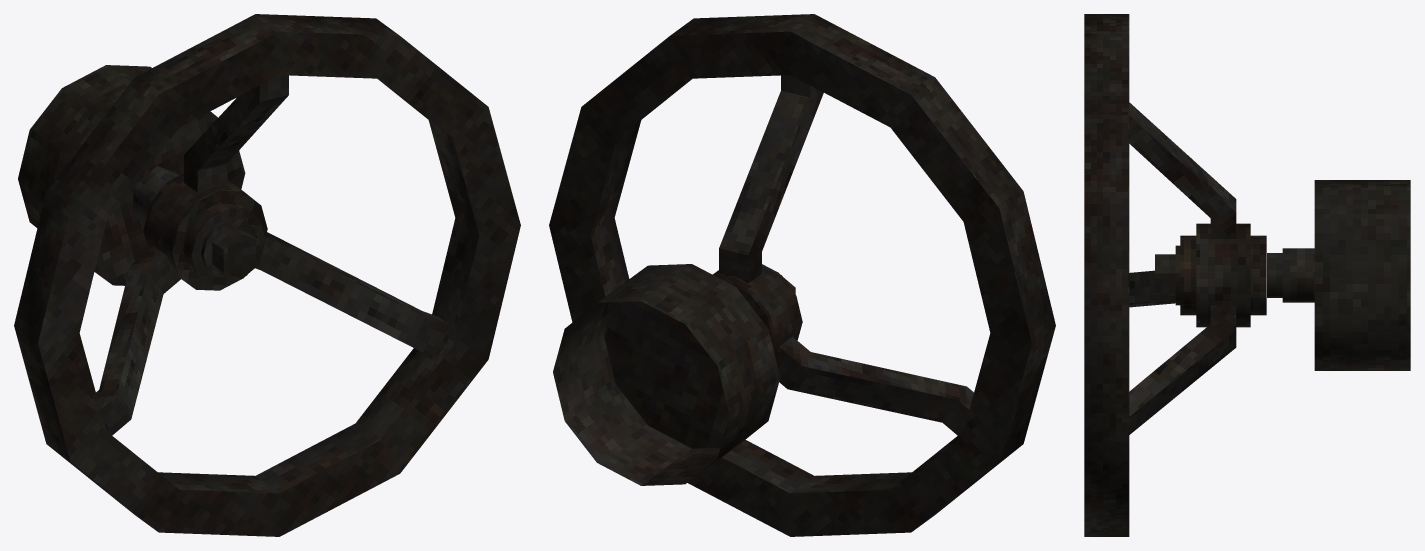
File: pipe_valve_holder_large_2_1.glb
3 renders of one model, left to right at view 1: azimuth 30°, elevation 25°; view 2: azimuth 150°, elevation 25°; view 3: azimuth 270°, elevation 25°, orthographic. The views are drawn at different scales.
Visible parts, largest first — view 1: valve_mp_1_1, pipe_valve_holder_large_2_1; view 2: valve_mp_1_1, pipe_valve_holder_large_2_1; view 3: valve_mp_1_1, pipe_valve_holder_large_2_1.
Part boxes in pixels (x1=…): valve_mp_1_1: x1=14, y1=14, x2=520, y2=536; pipe_valve_holder_large_2_1: x1=18, y1=65, x2=245, y2=285; valve_mp_1_1: x1=549, y1=14, x2=1055, y2=536; pipe_valve_holder_large_2_1: x1=553, y1=264, x2=780, y2=485; valve_mp_1_1: x1=1084, y1=14, x2=1282, y2=536; pipe_valve_holder_large_2_1: x1=1282, y1=180, x2=1410, y2=370.
Size of the model in its own units: 0.3283 by 0.3283 by 0.2041.
1 material, 1 textured.
